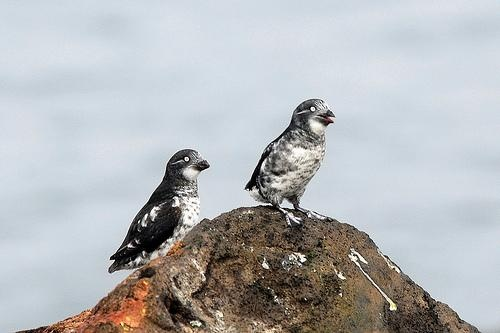bird: (104, 146, 215, 271), (245, 98, 339, 224)
